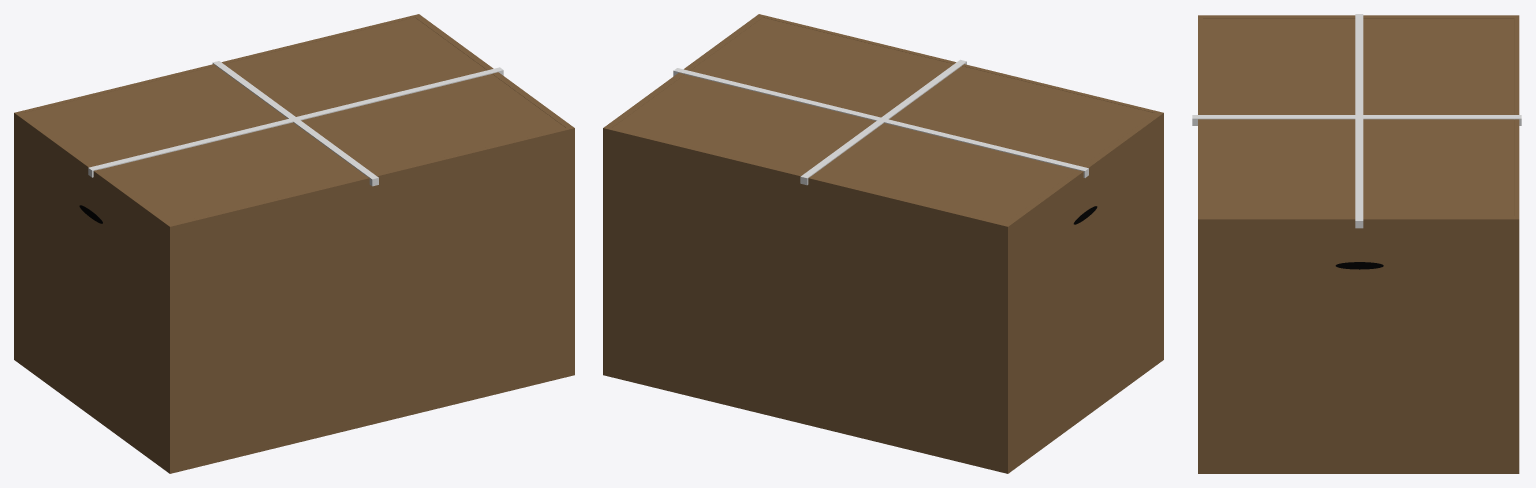
The model's file is koli.fbx.
3 renders of one model, left to right at view 1: azimuth 30°, elevation 25°; view 2: azimuth 150°, elevation 25°; view 3: azimuth 270°, elevation 25°, orthographic. The views are drawn at different scales.
Parts seen in each view (by area): view 1: Cube, Cube.002, Cube.001; view 2: Cube, Cube.002, Cube.001; view 3: Cube, Cube.002, Cube.001.
Part boxes in pixels (left/top/right/bottom): Cube: left=14, top=14, right=574, bottom=473; Cube.002: left=88, top=67, right=503, bottom=177; Cube.001: left=212, top=61, right=378, bottom=186; Cube: left=603, top=14, right=1163, bottom=473; Cube.002: left=673, top=68, right=1088, bottom=177; Cube.001: left=800, top=59, right=966, bottom=185; Cube: left=1198, top=15, right=1519, bottom=473; Cube.002: left=1355, top=14, right=1363, bottom=228; Cube.001: left=1192, top=115, right=1521, bottom=125.
Bounding box in the file's own units: 122 × 70.2 × 82.
